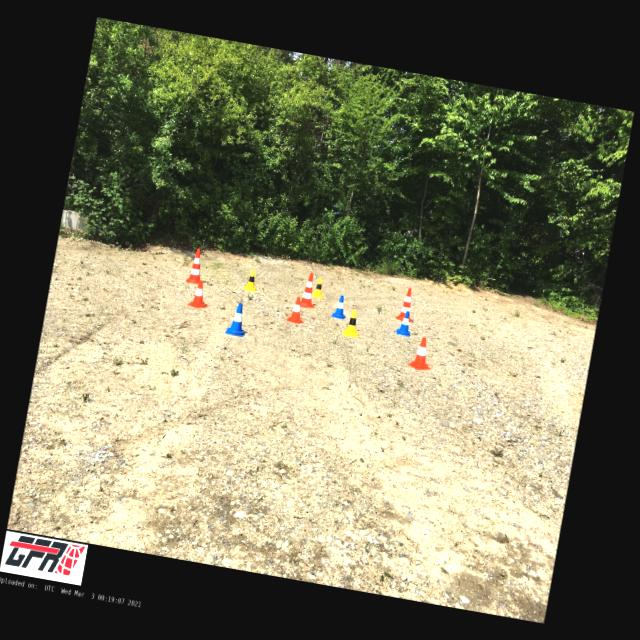blue_cone: (225, 302, 249, 336), (396, 309, 414, 336), (331, 294, 348, 319)
large_orange_cone: (395, 286, 417, 322), (299, 271, 319, 307), (187, 248, 206, 284)
orange_cone: (408, 335, 434, 369), (188, 278, 210, 308), (286, 295, 306, 322)
yellow_cone: (342, 308, 363, 337), (244, 268, 258, 292), (310, 278, 326, 297)
